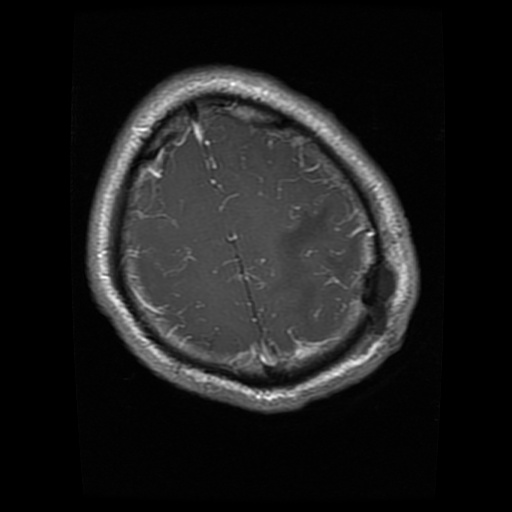glioma: (359, 260, 397, 334)
